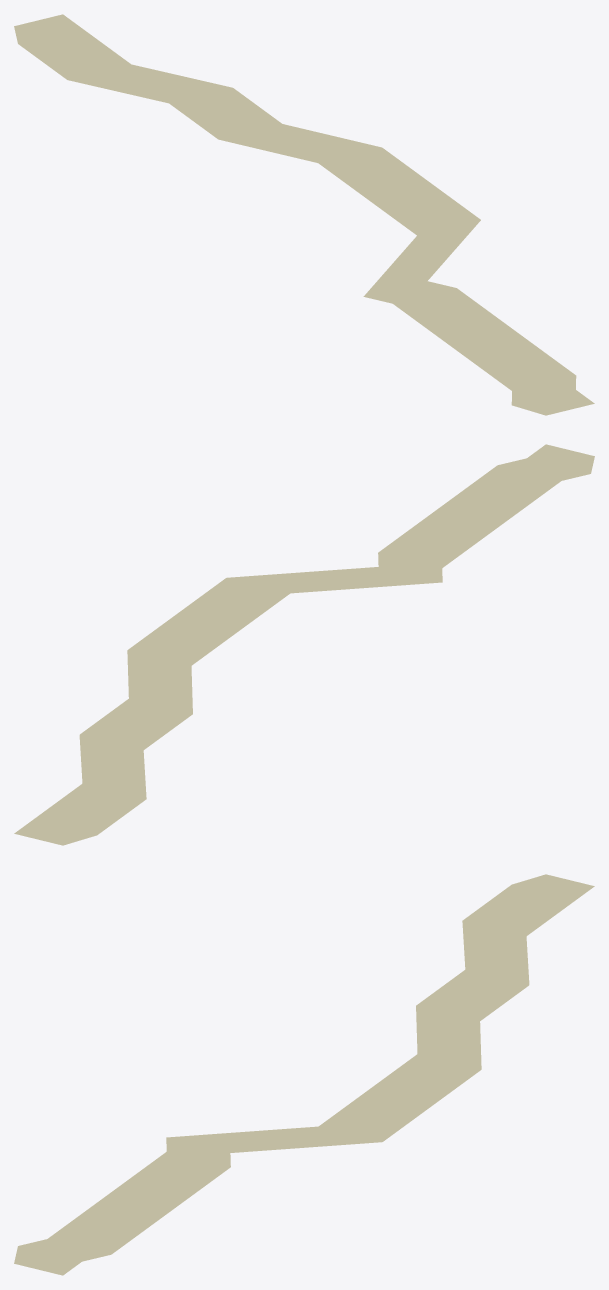
File: foam_0_0.fbx
3 renders of one model, top to bottom at view 1: azimuth 30°, elevation 25°; view 2: azimuth 150°, elevation 25°; view 3: azimuth 330°, elevation 25°, orthographic.
Parts seen in each view (by area): view 1: foam_1; view 2: foam_1; view 3: foam_1.
Part boxes in pixels (box(x1,y1,x2,y2)): foam_1: box(14, 14, 594, 415); foam_1: box(14, 444, 594, 845); foam_1: box(14, 874, 594, 1275).
Bounding box in the file's own units: 3.91 × 0 × 21.55.
